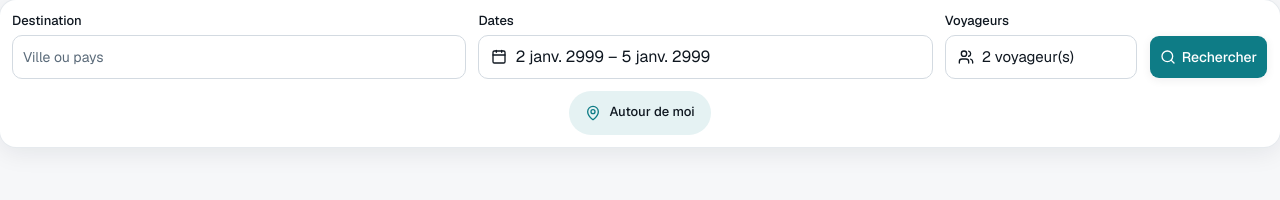
Scenario: SearchBar — Autour de moi (géoloc, FR-2) › refus de géoloc → message explicatif + repli (pas de navigation)
Click the button with test id "search-near-me". click: click(640, 113)
box: [569,91,710,135]
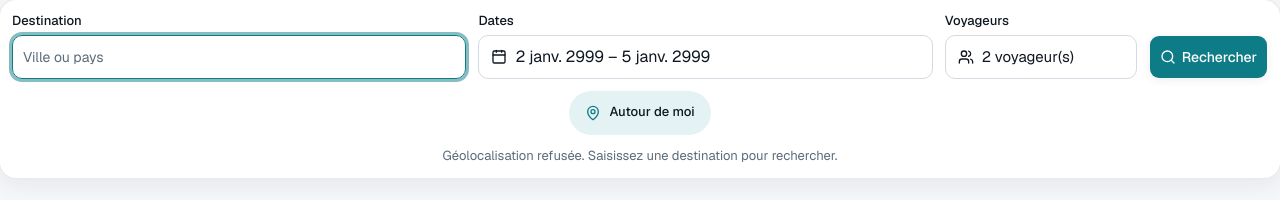
Now the message "Géolocalisation refusée. Saisissez une destination pour rechercher." is shown, box [442,147,838,164]
